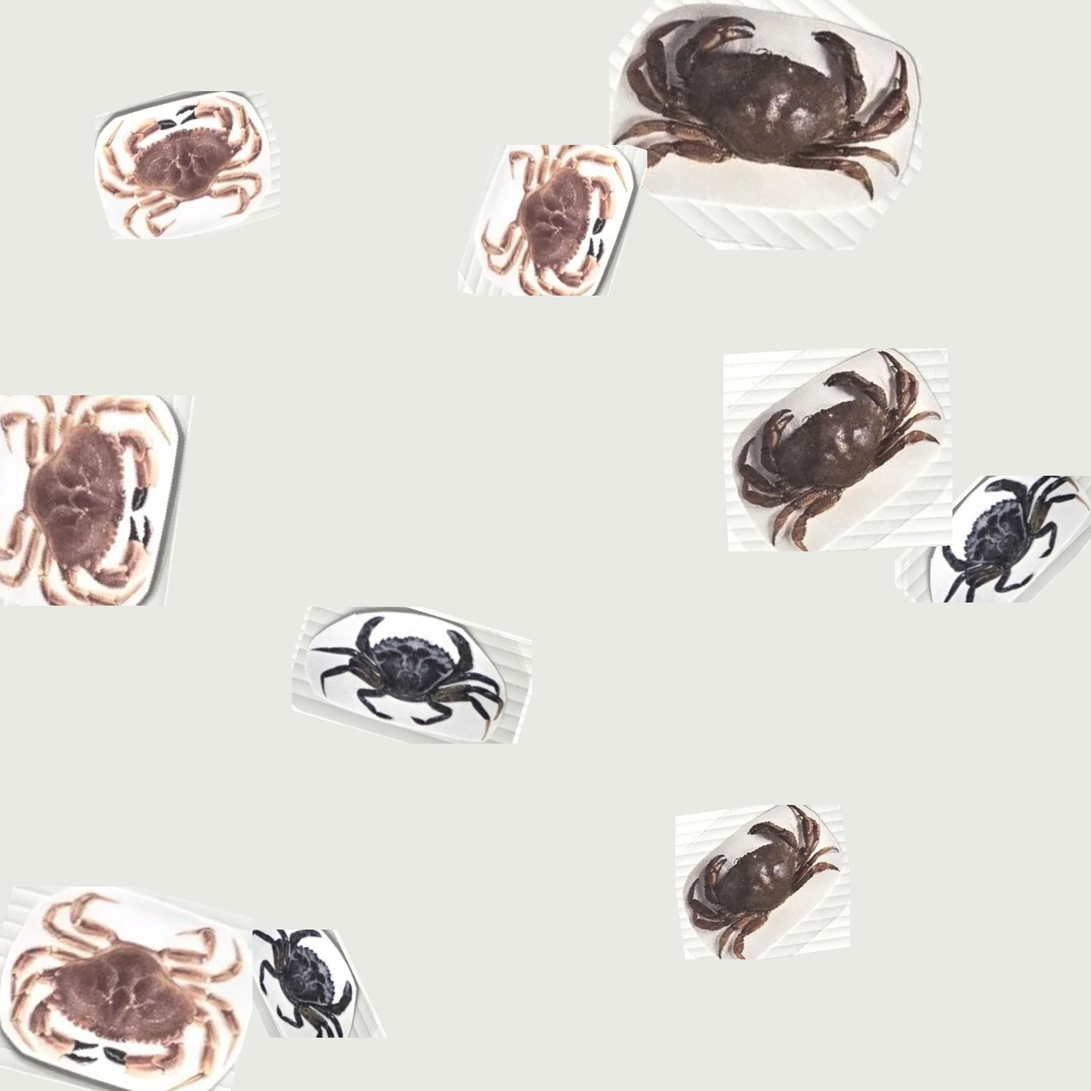evil: (298, 600, 534, 746), (958, 477, 1086, 605), (260, 929, 381, 1038)
normal: (619, 12, 922, 198), (3, 874, 257, 1091), (726, 355, 950, 552), (0, 391, 176, 605), (467, 133, 634, 295), (681, 808, 853, 960), (102, 81, 267, 234)
